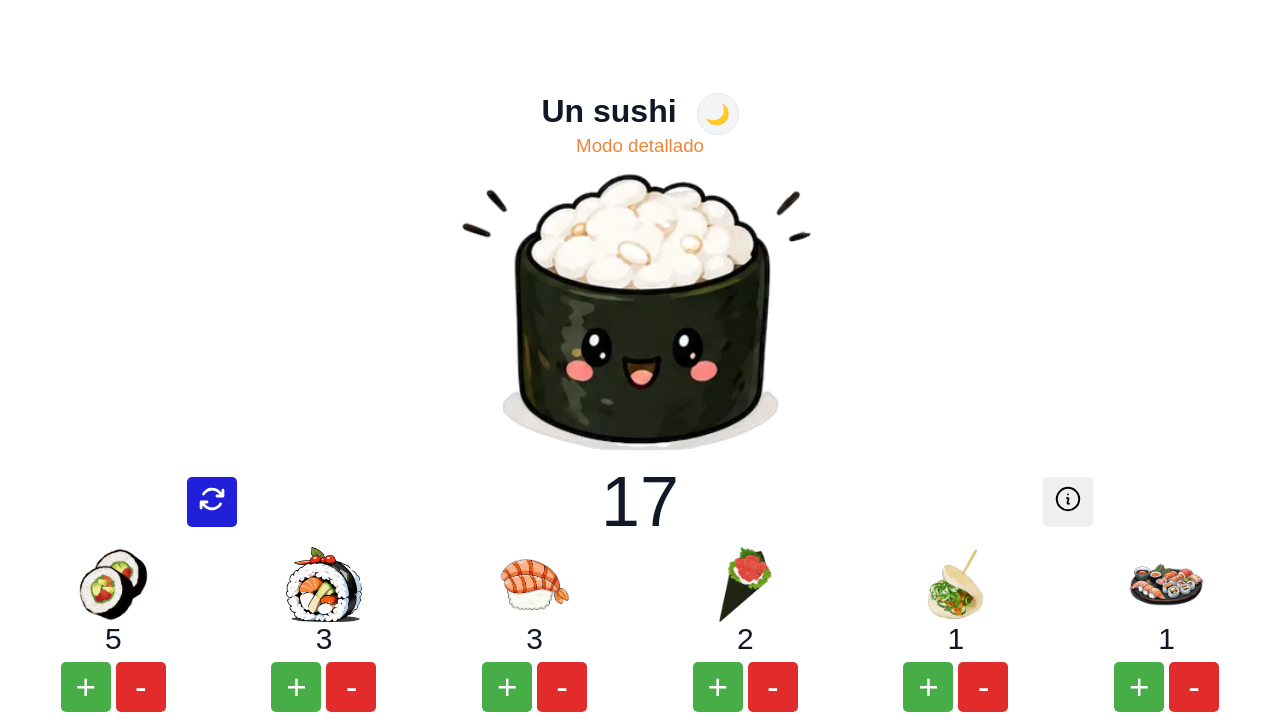
SushiDetailedCounter › should decrement counter and niguiri when we pulse quit
(page scrolled)
Expected: the 2nd text "3" is shown, [526,622,543,656]
Step 1. Click the 3rd button "-" → (562, 687), box [537,662,587,712]
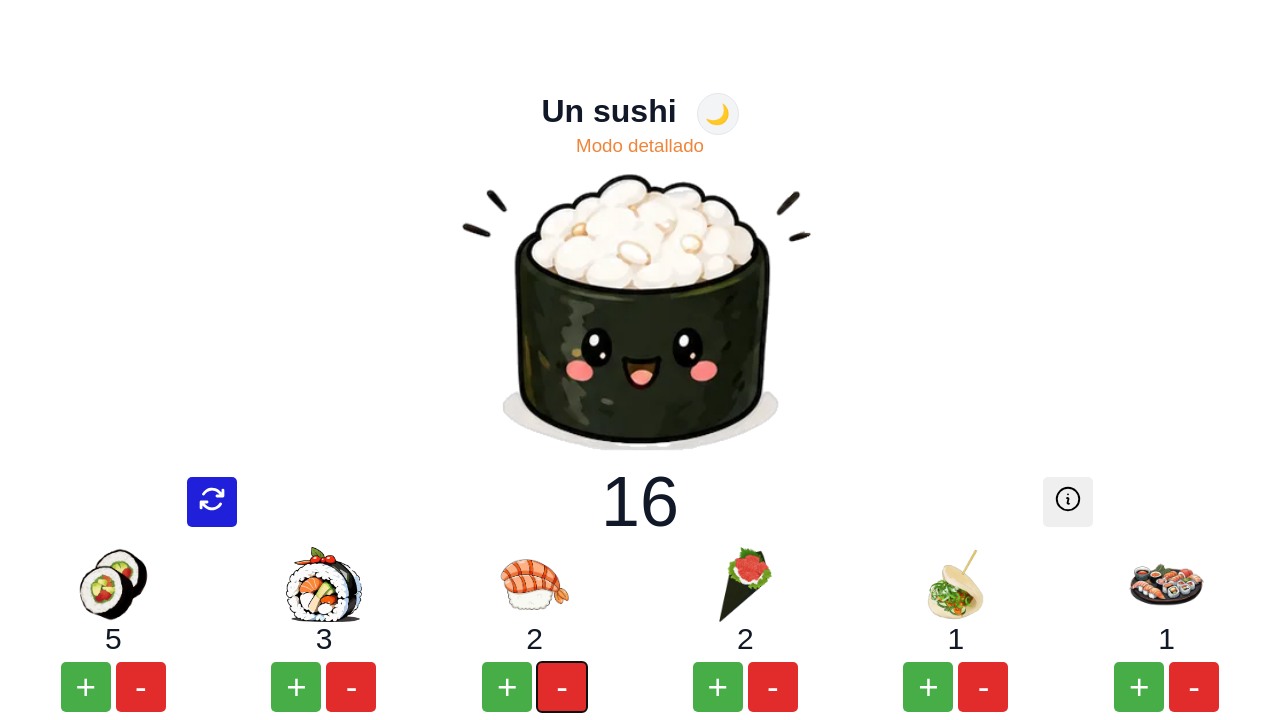
Expected: the text "16" is shown, [601,462,679,542]
Result: the text with id "detailed-counter" reads "16" at [601,463,679,541]
Step 2. Click the 3rd button "-" → (562, 687), box [537,662,587,712]
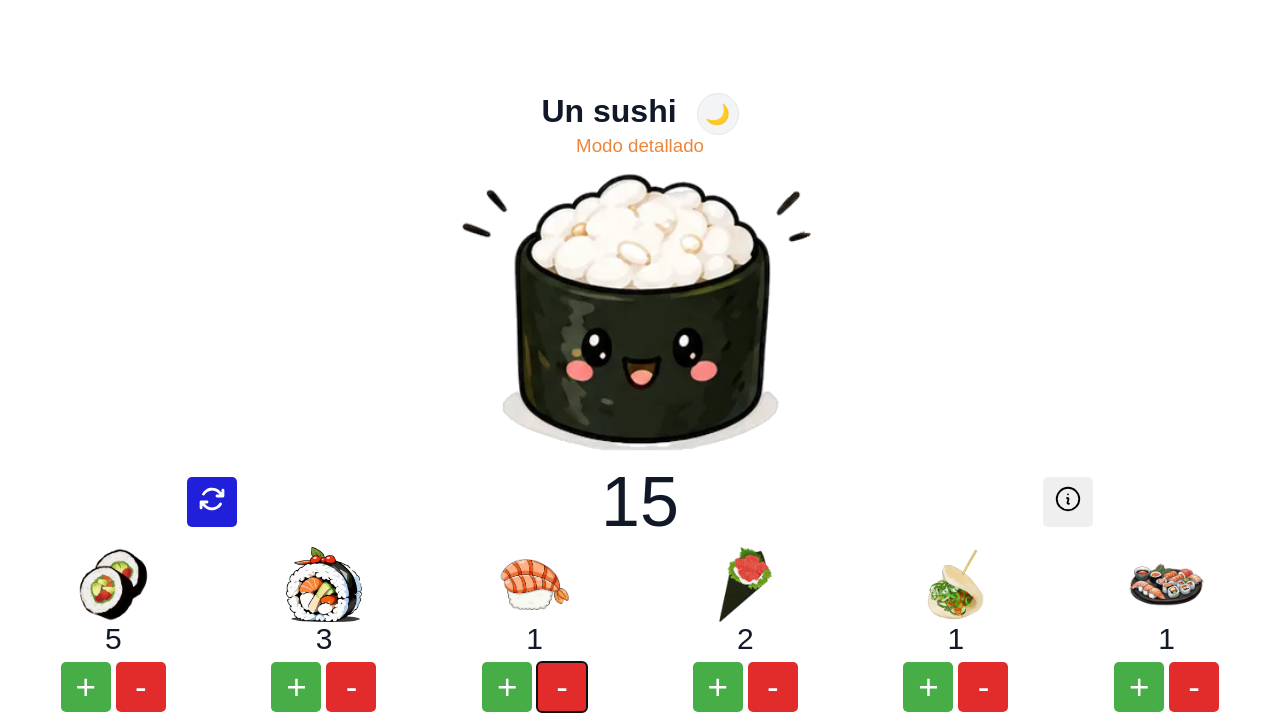
Step 3. Click the 3rd button "-" → (562, 687), box [537,662,587,712]
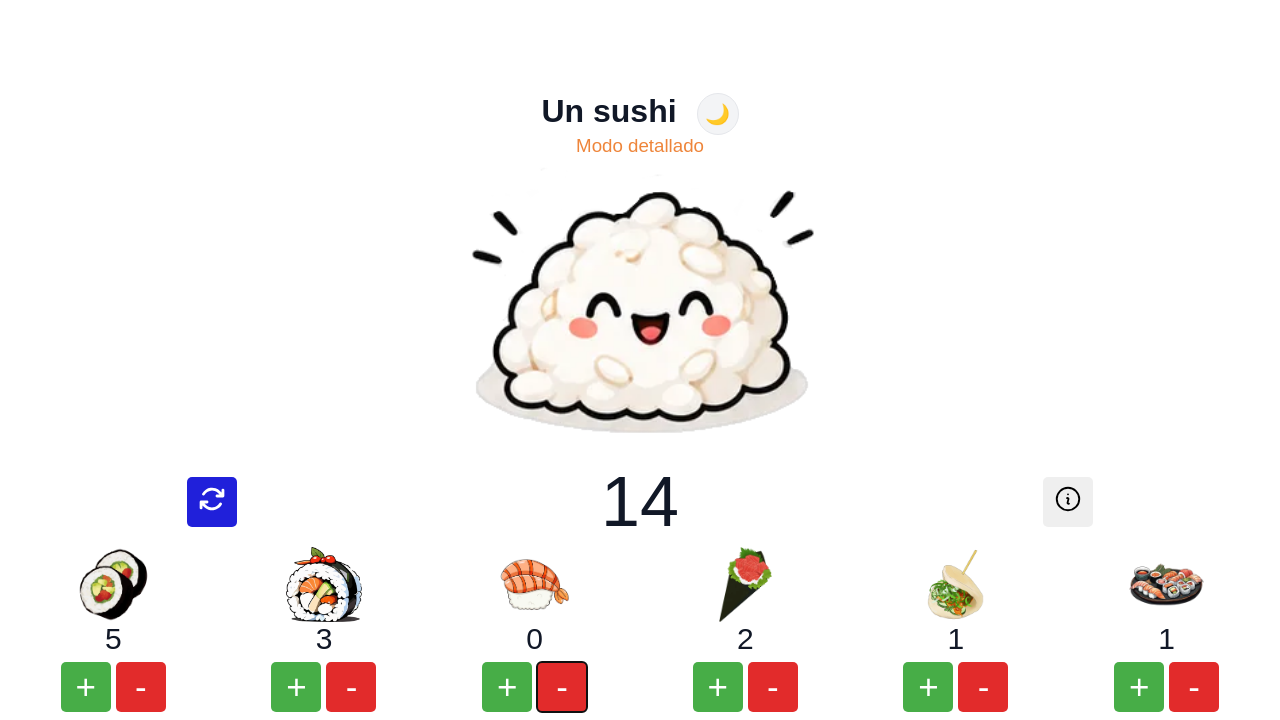
Expected: the text "14" is shown, [601,462,679,542]
Result: the text with id "detailed-counter" reads "14" at [601,463,679,541]
